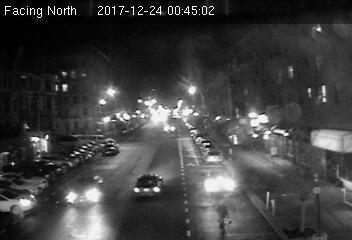car: (65, 176, 106, 207), (204, 167, 234, 194), (133, 174, 165, 197), (202, 148, 224, 164), (100, 143, 120, 155)
